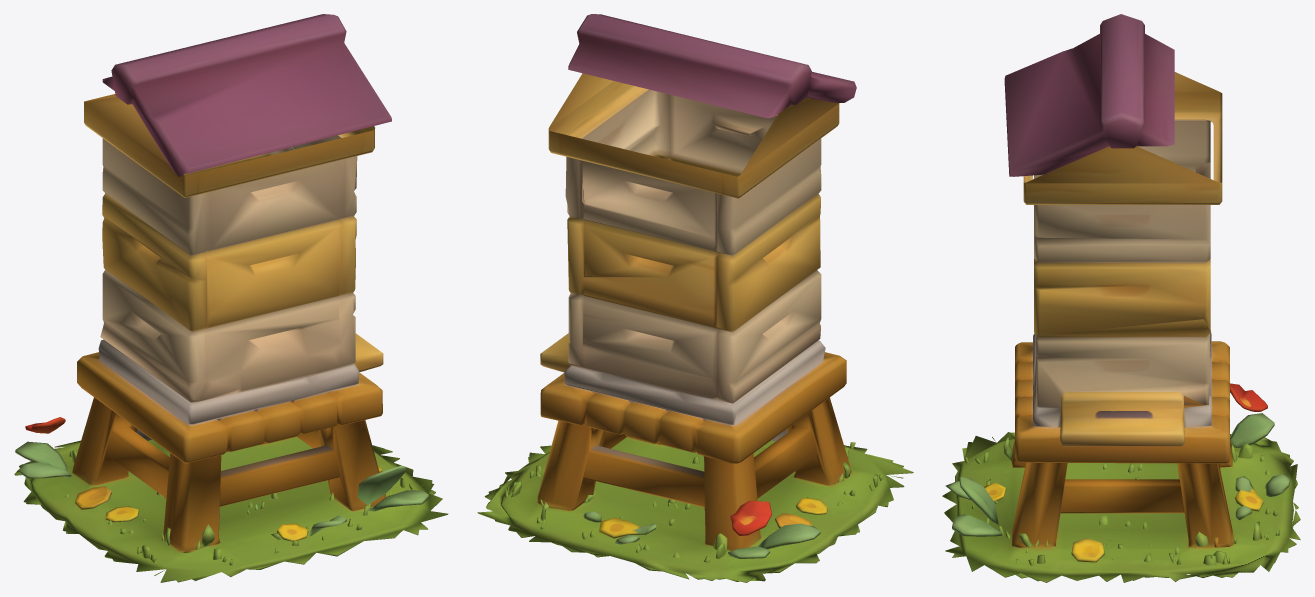
Rendered from tripo_raw.glb.
3 views of the same model, side by side, from view 1: azimuth 30°, elevation 25°; view 2: azimuth 150°, elevation 25°; view 3: azimuth 270°, elevation 25° (orthographic). The views are drawn at different scales.
Visible parts, largest first — view 1: tripo_node_3daa87e4-d62c-468e-bf16-6d10f66ef6b3; view 2: tripo_node_3daa87e4-d62c-468e-bf16-6d10f66ef6b3; view 3: tripo_node_3daa87e4-d62c-468e-bf16-6d10f66ef6b3.
Boxes of the visible parts, x1=… form: tripo_node_3daa87e4-d62c-468e-bf16-6d10f66ef6b3: x1=14, y1=14, x2=448, y2=582; tripo_node_3daa87e4-d62c-468e-bf16-6d10f66ef6b3: x1=477, y1=14, x2=913, y2=582; tripo_node_3daa87e4-d62c-468e-bf16-6d10f66ef6b3: x1=942, y1=14, x2=1300, y2=582.
Size of the model in its own units: 0.7573 by 1 by 0.7339.
Materials: 1 (1 with a texture image).
